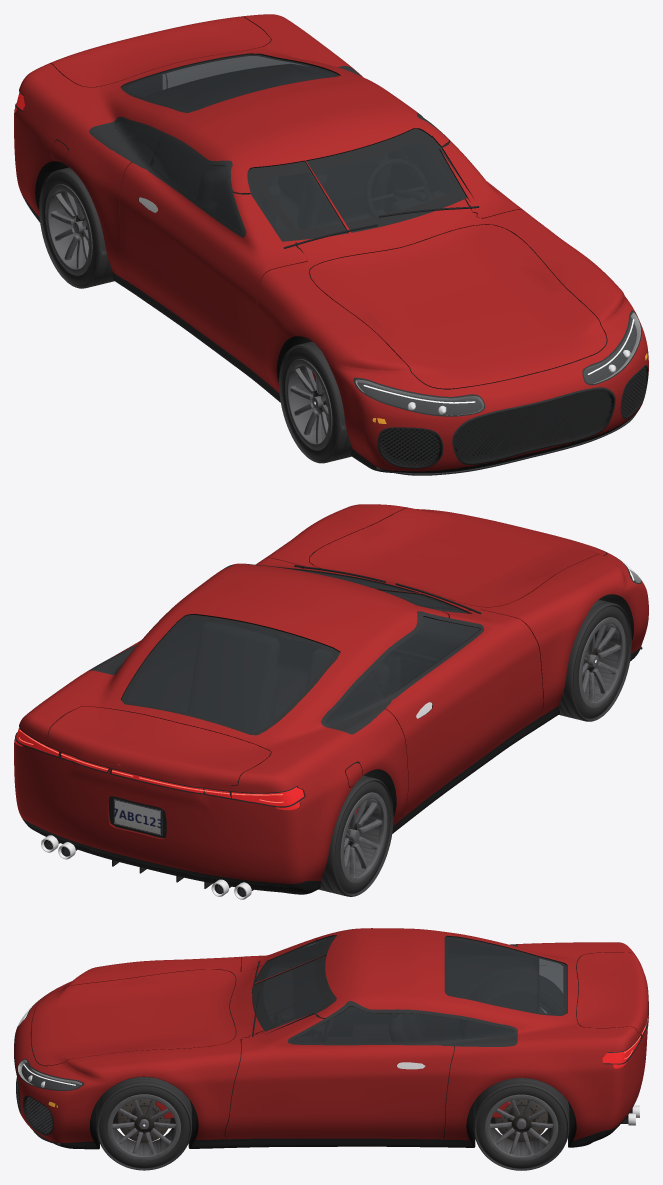
The model's file is car_sports.glb.
3 renders of one model, top to bottom at view 1: azimuth 30°, elevation 25°; view 2: azimuth 150°, elevation 25°; view 3: azimuth 270°, elevation 25°, orthographic. The views are drawn at different scales.
Visible parts, largest first — view 1: body, wheel_FR, wheel_RR; view 2: body, wheel_FR, wheel_RR; view 3: body, wheel_RL, wheel_FL, wheel_RR.
Boxes of the visible parts, x1,y1,x2,y2 form: body: (14,14,648,475); wheel_FR: (279,341,351,463); wheel_RR: (39,167,114,288); body: (14,504,648,899); wheel_FR: (559,599,631,721); wheel_RR: (318,775,393,896); body: (14,928,648,1149); wheel_RL: (473,1078,569,1170); wheel_FL: (96,1077,191,1170); wheel_RR: (540,976,562,1013).
Bounding box in the file's own units: 1.95 × 1.25 × 4.54.
Materials: 15 (2 with a texture image).
